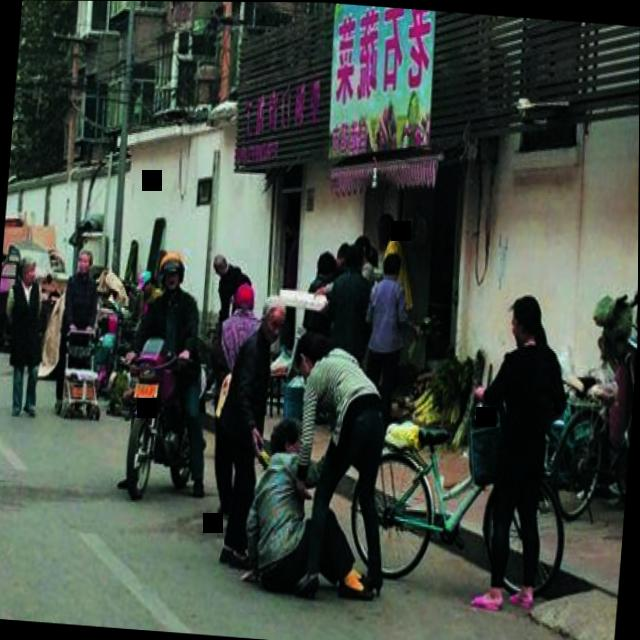Fall-Detected: (239, 406, 380, 604)
